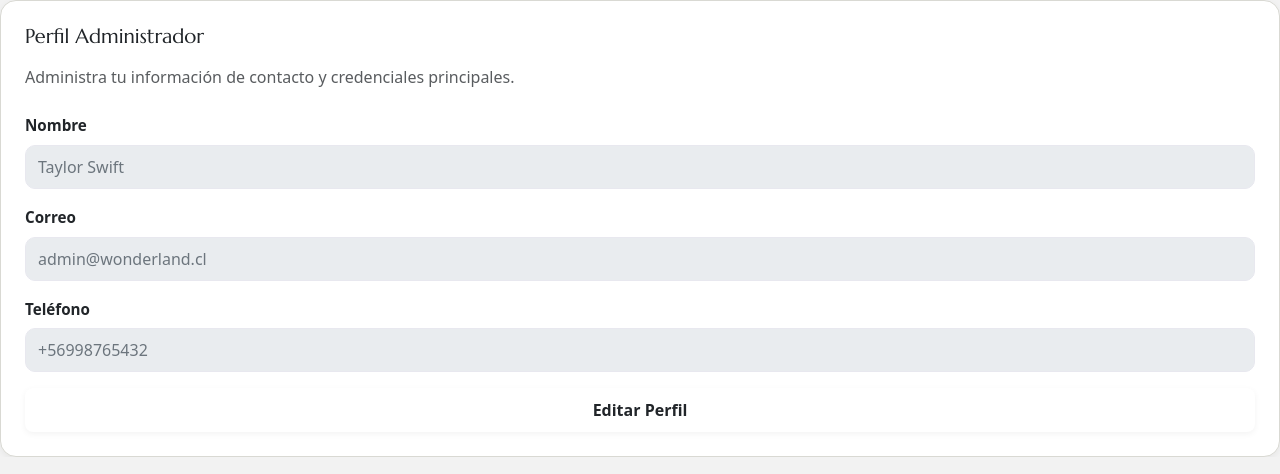
it: PerfilAdmin Component › desactiva edición al presionar 'Cancelar'
Click the button "Editar Perfil".
click(640, 410)  # box [25,388,1255,432]
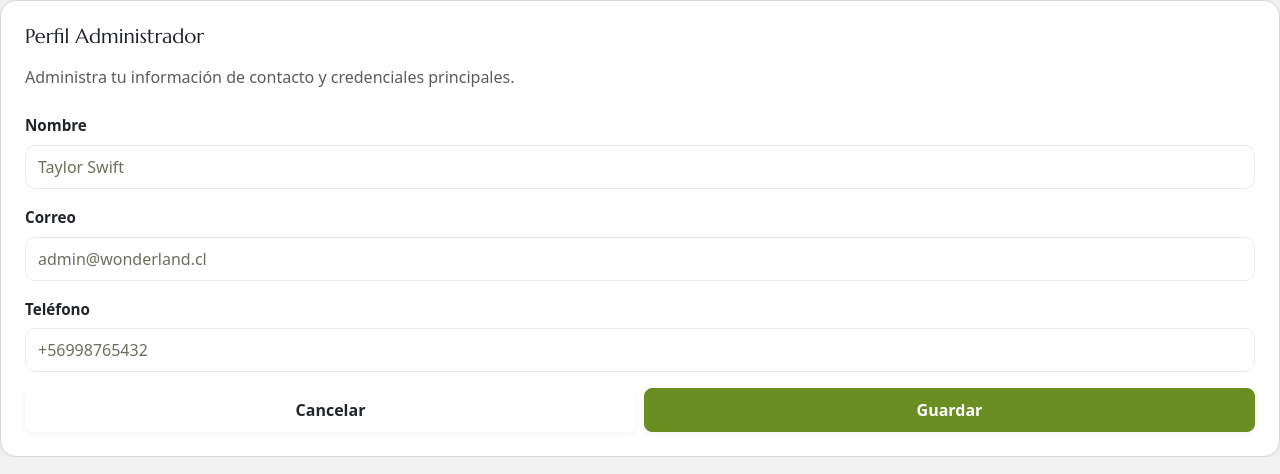
Replace the text in the field showing "Taylor Swift" below "Nombre" with "Nombre Nuevo" at [640, 167], box [25,145,1255,189]
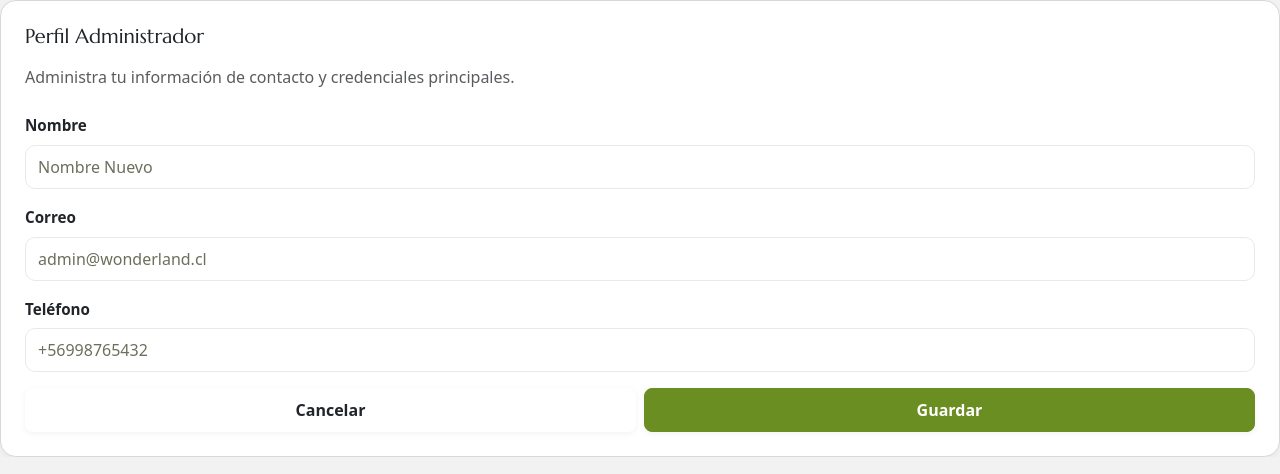
Click the button "Cancelar".
click(330, 410)  # box [25,388,636,432]
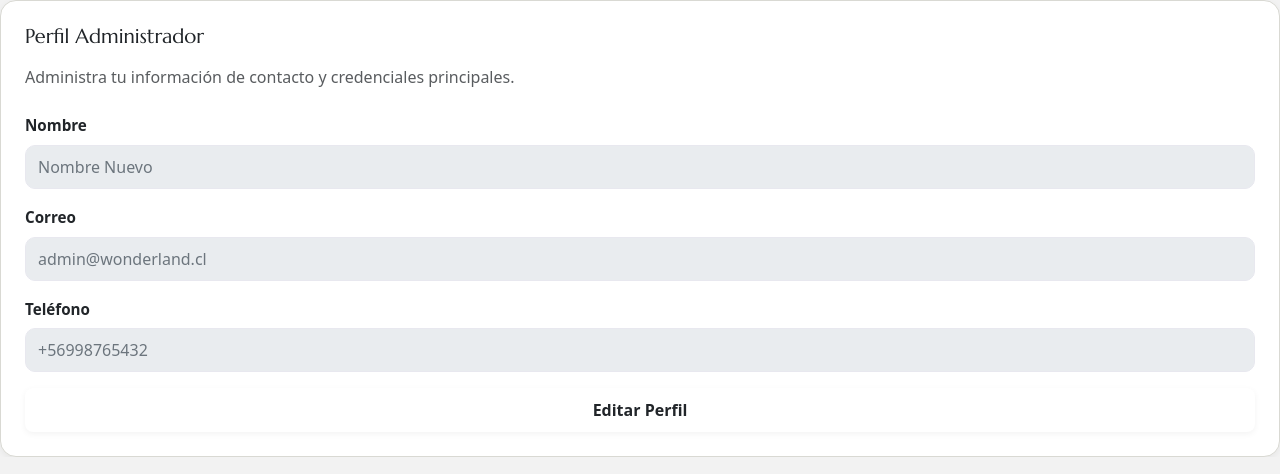
Now the field showing "Taylor Swift" below "Nombre" is disabled, box [25,145,1255,189]
